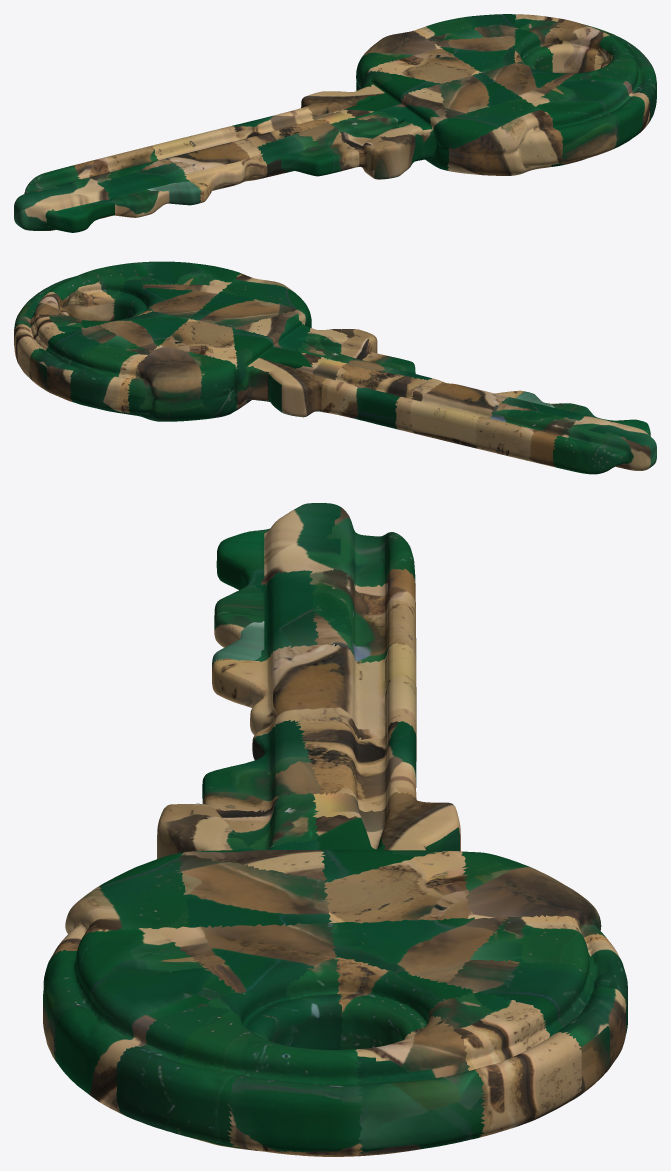
File: key_yellow.fbx
3 renders of one model, top to bottom at view 1: azimuth 30°, elevation 25°; view 2: azimuth 150°, elevation 25°; view 3: azimuth 270°, elevation 25°, orthographic. The views are drawn at different scales.
Parts seen in each view (by area): view 1: tripo_node_badff06d; view 2: tripo_node_badff06d; view 3: tripo_node_badff06d.
Part boxes in pixels (x1,y1,x2,y2): tripo_node_badff06d: (14,14,656,232); tripo_node_badff06d: (14,261,656,474); tripo_node_badff06d: (43,503,627,1156).
Size of the model in its own units: 1 by 0.081 by 0.4105.
